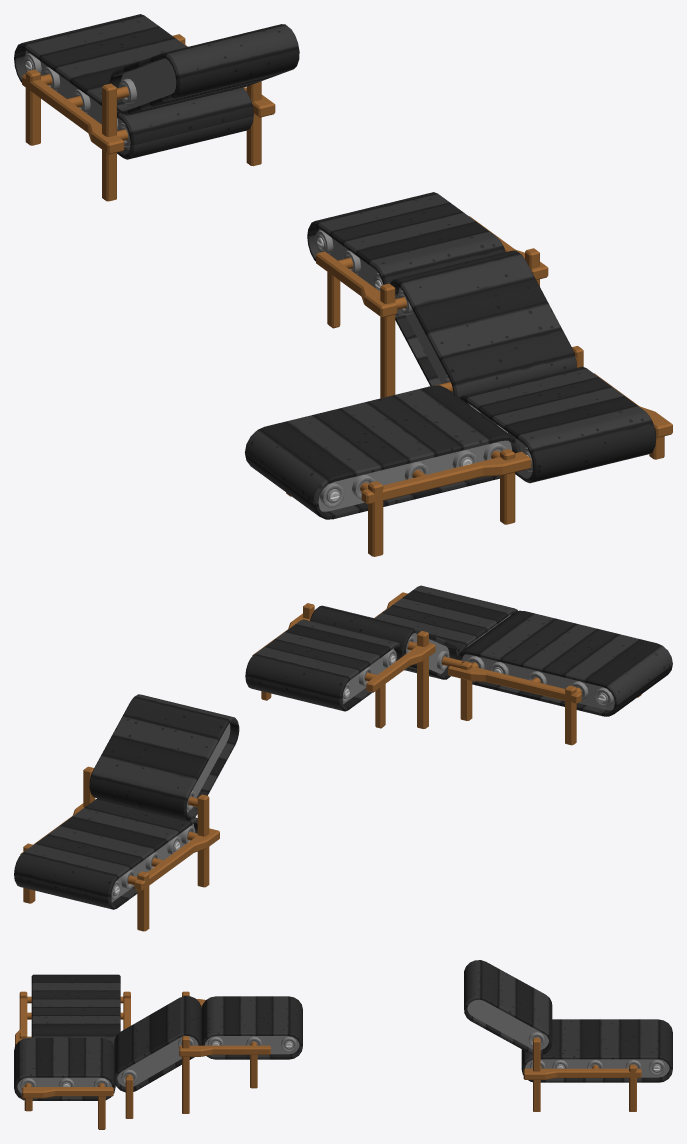
File: Shelf_Treadmills.fbx
3 renders of one model, top to bottom at view 1: azimuth 30°, elevation 25°; view 2: azimuth 150°, elevation 25°; view 3: azimuth 270°, elevation 25°, orthographic. The views are drawn at different scales.
Parts seen in each view (by area): view 1: Shelf_Treadmills; view 2: Shelf_Treadmills; view 3: Shelf_Treadmills.
Part boxes in pixels (left/top/right/bottom): Shelf_Treadmills: left=14, top=14, right=672, bottom=556; Shelf_Treadmills: left=14, top=585, right=672, bottom=931; Shelf_Treadmills: left=14, top=960, right=672, bottom=1129.
Bounding box in the file's own units: 420 × 232 × 1080.
Materials: 5 (1 with a texture image).
